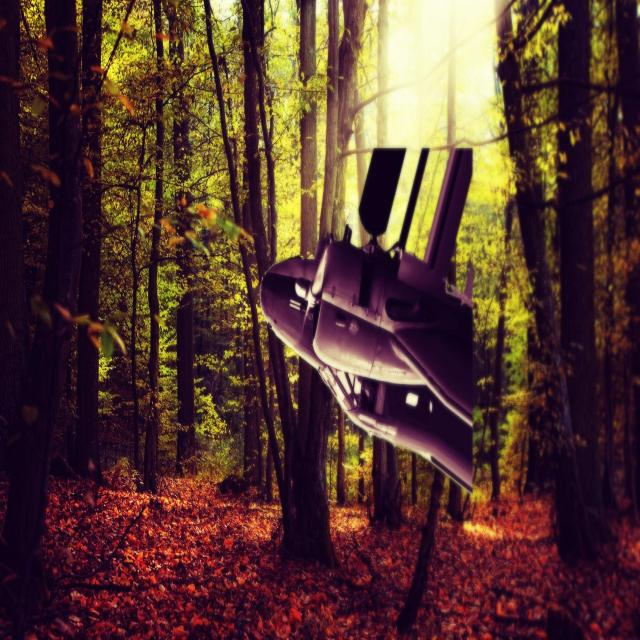airplane: (260, 144, 476, 494)
